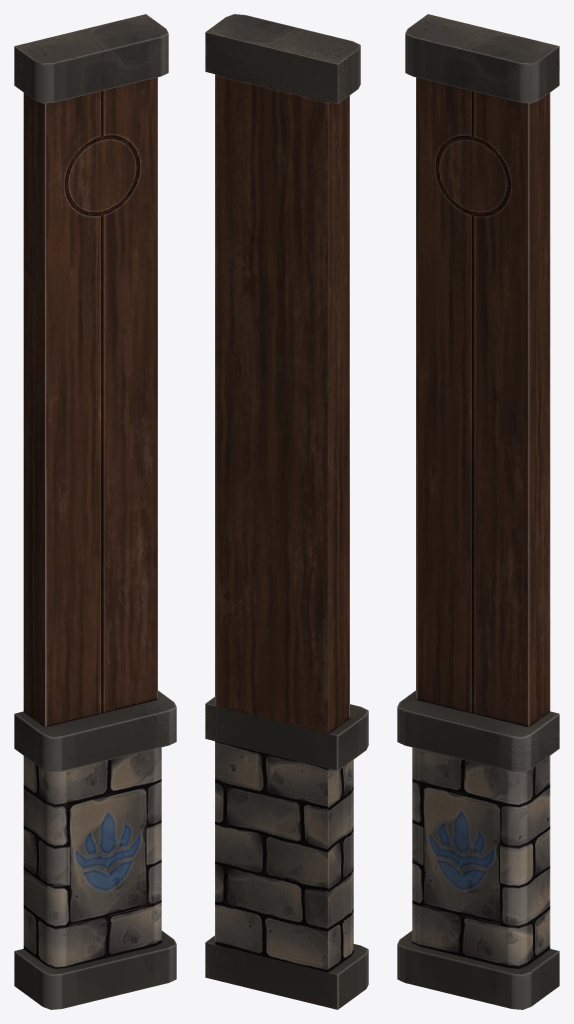
The model's file is DS_WizLab_Arch_Column.fbx.
3 views of the same model, side by side, from view 1: azimuth 30°, elevation 25°; view 2: azimuth 150°, elevation 25°; view 3: azimuth 330°, elevation 25° (orthographic).
Visible parts, largest first — view 1: DS_WizLab_Arch_Column; view 2: DS_WizLab_Arch_Column; view 3: DS_WizLab_Arch_Column.
Part boxes in pixels (x1,y1,x2,y2): DS_WizLab_Arch_Column: (14,14,176,1009); DS_WizLab_Arch_Column: (205,14,368,1009); DS_WizLab_Arch_Column: (397,14,559,1009).
Bounding box in the file's own units: 51.38 × 350 × 24.
Materials: 1 (1 with a texture image).
